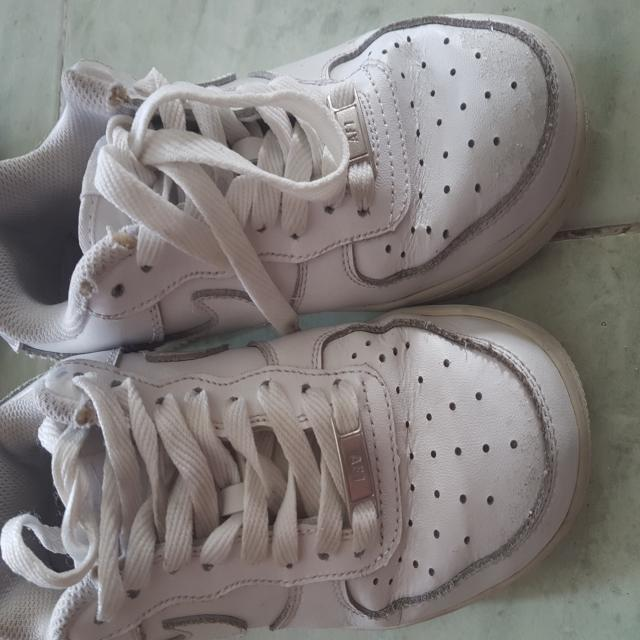nike original air force: (213, 0, 480, 640), (0, 4, 260, 640)
